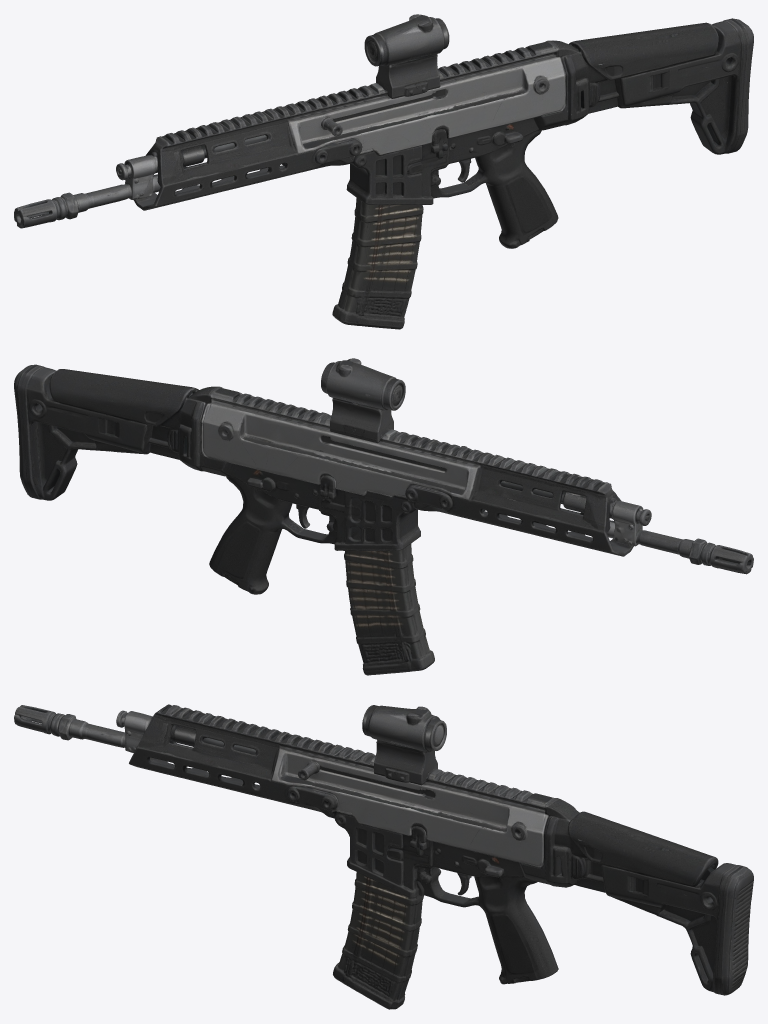
Rendered from fusil.glb.
3 views of the same model, one above another, from view 1: azimuth 30°, elevation 25°; view 2: azimuth 150°, elevation 25°; view 3: azimuth 330°, elevation 25° (orthographic).
Size of the model in its own units: 1.9 by 0.7544 by 0.1488.
Materials: 1 (1 with a texture image).
